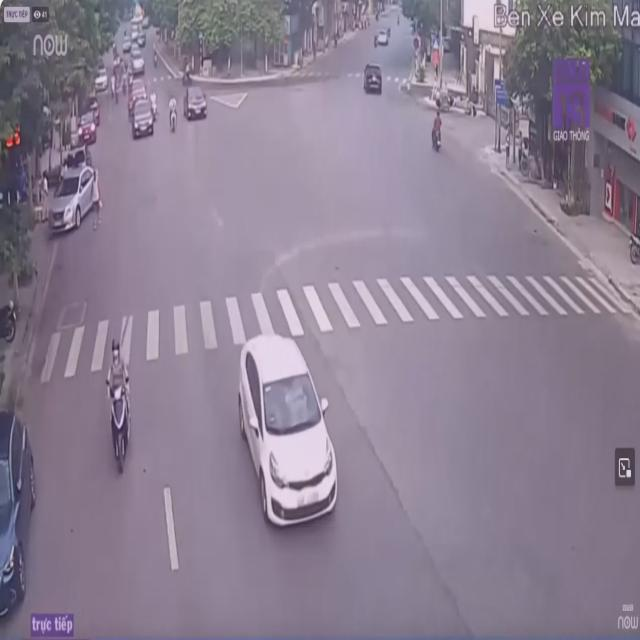car: (236, 338, 340, 526), (1, 406, 36, 626), (49, 167, 90, 229), (130, 93, 154, 142), (184, 85, 206, 123)
motorbike: (106, 341, 131, 471), (168, 94, 180, 136), (431, 108, 442, 150)
